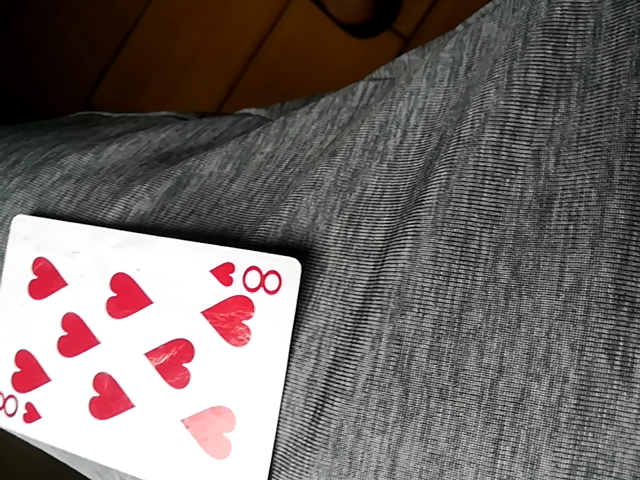hx 8: (0, 211, 303, 479)
